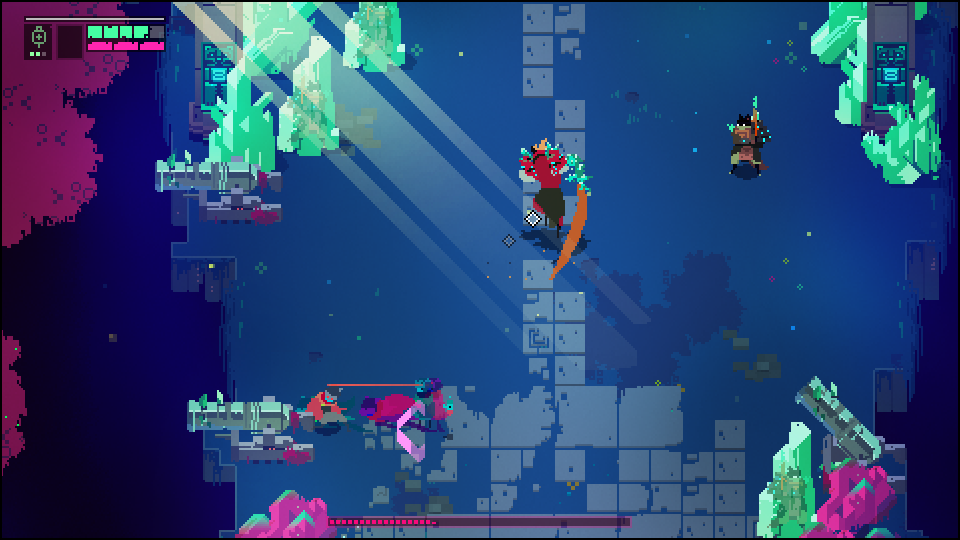hanged_man: (512, 137, 596, 241)
player: (304, 386, 351, 429)
